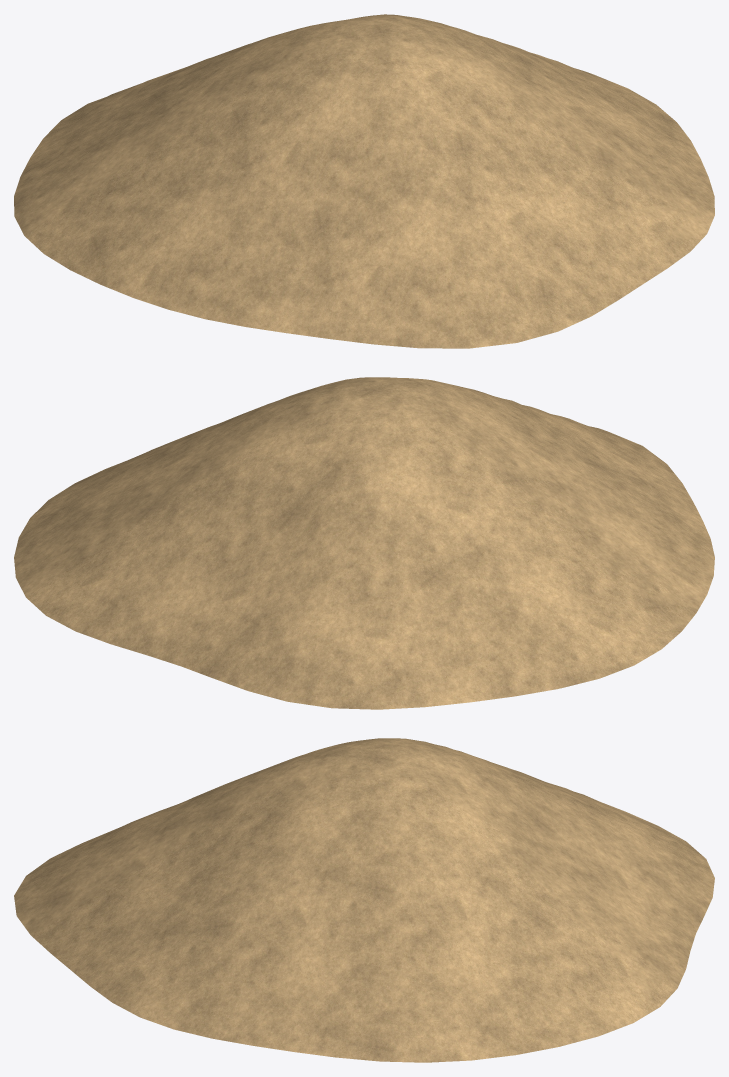
Rendered from ALV-AGR-001.glb.
3 renders of one model, top to bottom at view 1: azimuth 30°, elevation 25°; view 2: azimuth 150°, elevation 25°; view 3: azimuth 270°, elevation 25°, orthographic.
Visible parts, largest first — view 1: ALV-AGR-001_monte; view 2: ALV-AGR-001_monte; view 3: ALV-AGR-001_monte.
Boxes of the visible parts, <box> form: ALV-AGR-001_monte: <box>14,14,714,348</box>; ALV-AGR-001_monte: <box>14,377,714,709</box>; ALV-AGR-001_monte: <box>14,738,714,1062</box>.
Bounding box in the file's own units: 1.08 × 0.2769 × 1.09.
Materials: 1 (1 with a texture image).
